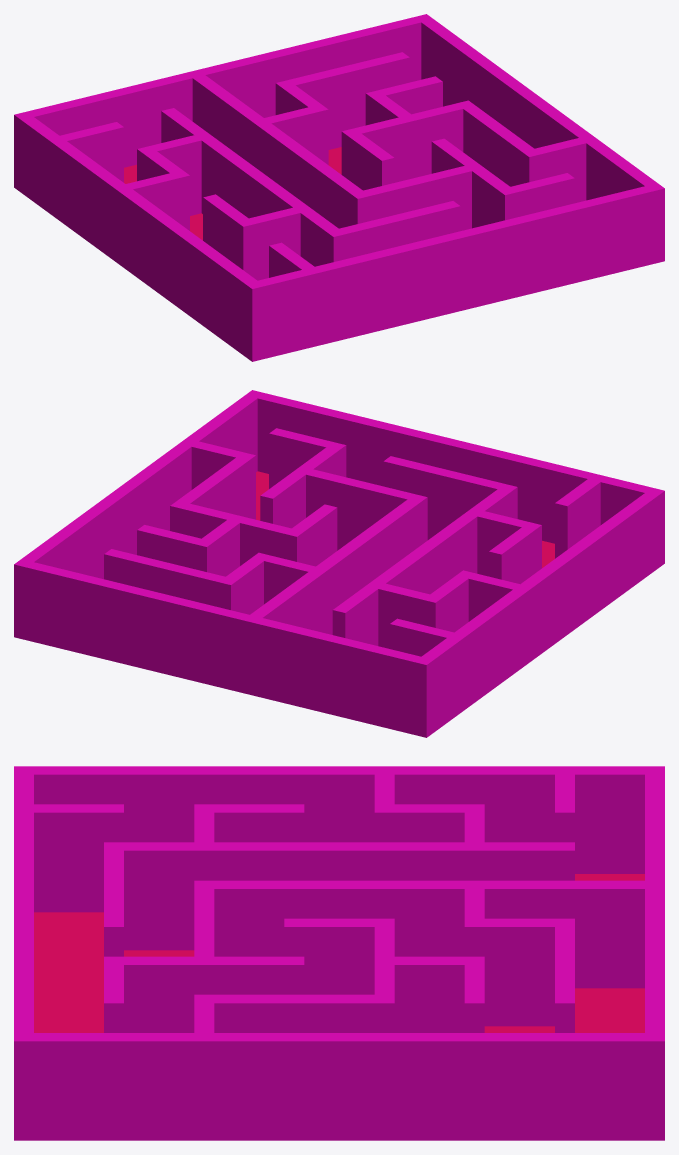
File: Level4Ground.FBX
3 views of the same model, one above another, from view 1: azimuth 30°, elevation 25°; view 2: azimuth 150°, elevation 25°; view 3: azimuth 270°, elevation 25° (orthographic). The views are drawn at different scales.
Visible parts, largest first — view 1: Labyrinth002; view 2: Labyrinth002; view 3: Labyrinth002.
Boxes of the visible parts, box(x1,y1,x2,y2) form: Labyrinth002: box(14, 14, 664, 361); Labyrinth002: box(14, 390, 664, 737); Labyrinth002: box(14, 766, 664, 1140).
Size of the model in its own units: 166 by 28 by 166.
